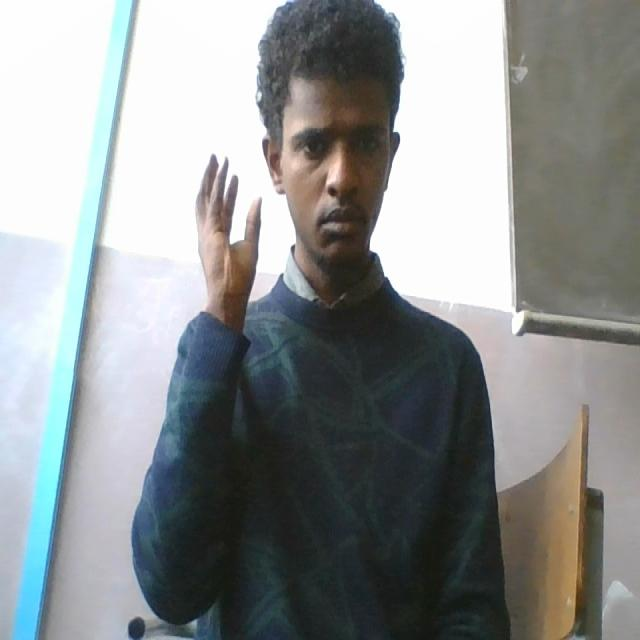menaded: (181, 143, 313, 314)
